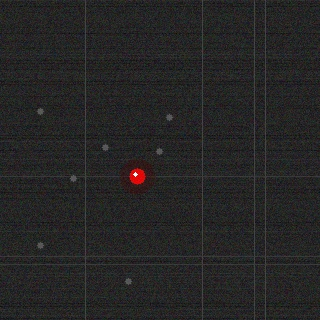red_fault: (127, 166, 147, 186)
